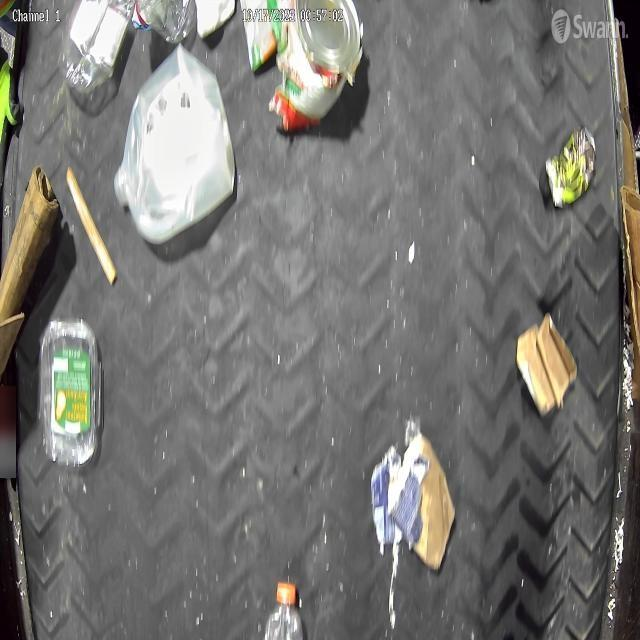milk_jug: (116, 47, 235, 248)
